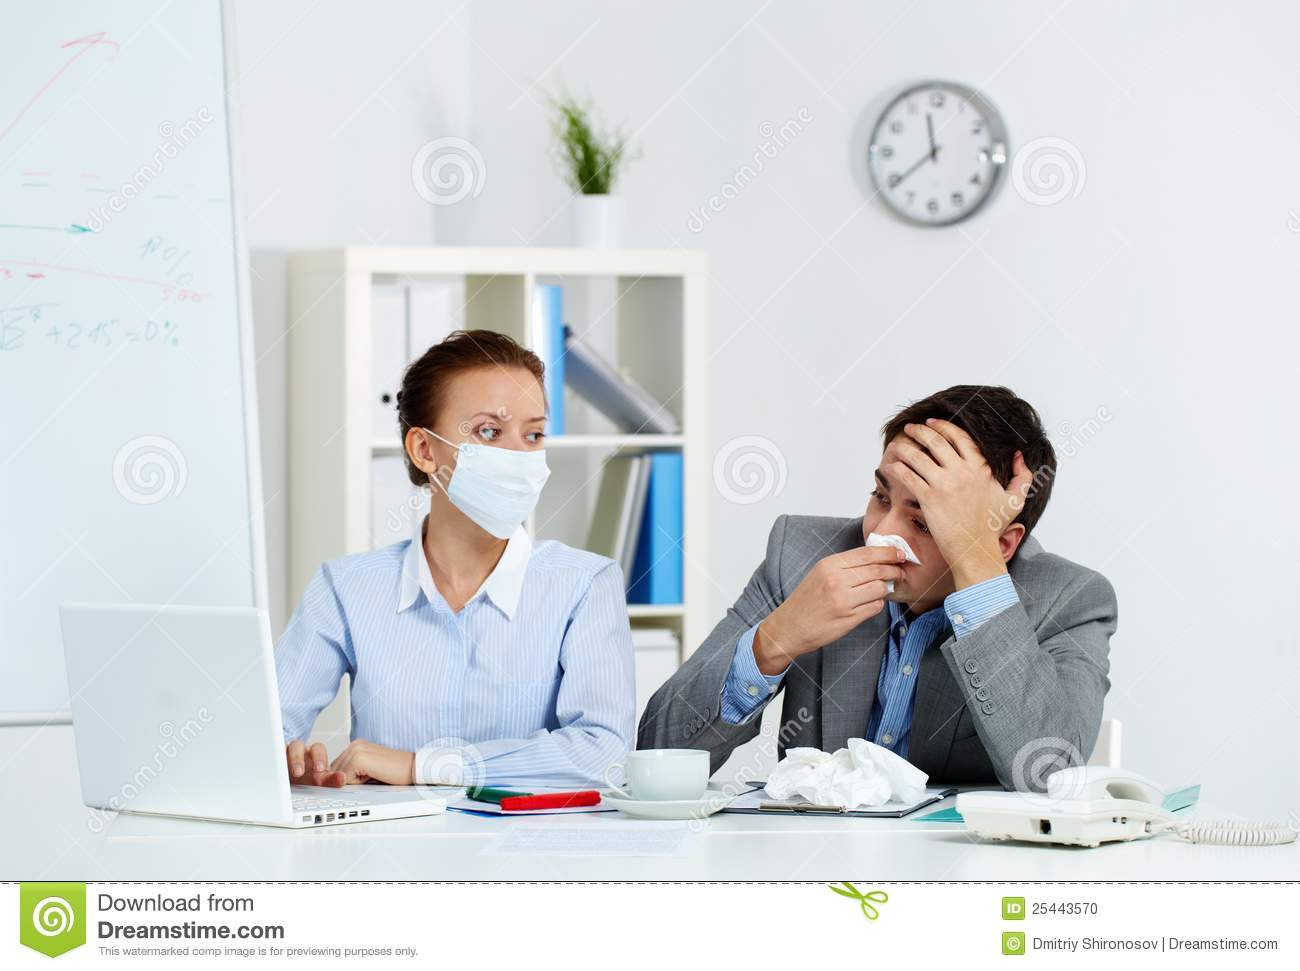mask: (445, 446, 559, 535)
